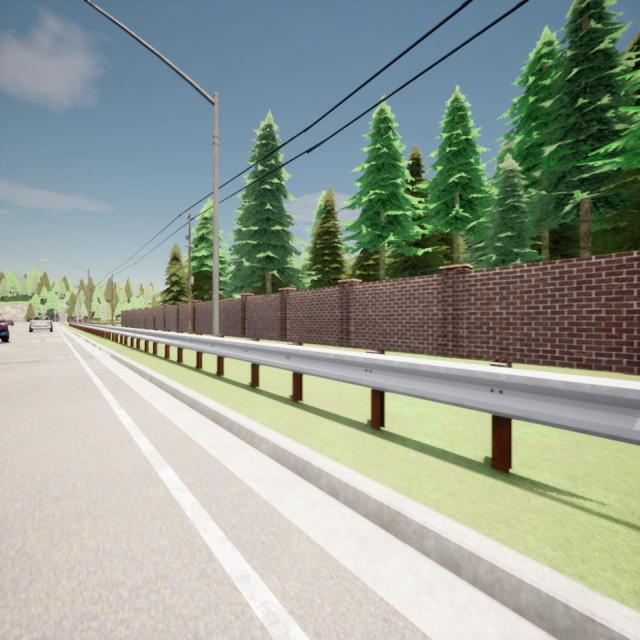Vehicle: (29, 316, 53, 333), (0, 314, 10, 343), (8, 319, 14, 325)
